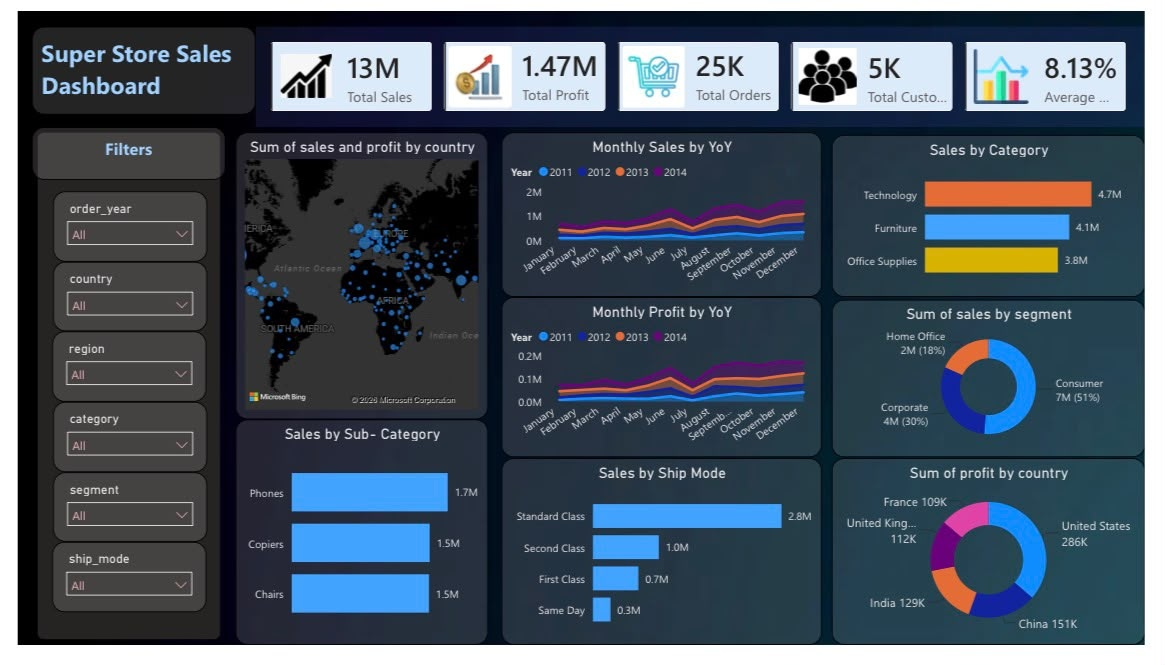

The dashboard page shown, as its layout file describes it:
{"tool":"powerbi","page":{"name":"Page 1","canvas":[1280,720],"ordinal":0},"visuals":[{"type":"clusteredBarChart","title":"Sales by Category","fields":{"Y":["Sum(superstore_Data.sales)"],"Category":["superstore_Data.category"]},"box":[924.1,141.2,355.9,183.4],"z":0},{"type":"clusteredBarChart","title":"Sales by Sub- Category","fields":{"Y":["Sum(superstore_Data.sales)"],"Category":["superstore_Data.sub_category"]},"box":[247.3,464.5,287.1,255.8],"z":1000},{"type":"clusteredBarChart","title":"Sales by Ship Mode","fields":{"Y":["Sum(superstore_Data.sales)"],"Category":["superstore_Data.ship_mode"]},"box":[548.9,507.9,364.3,212.3],"z":2000},{"type":"stackedAreaChart","title":"Monthly Sales by YoY","fields":{"Y":["Sum(superstore_Data.sales)"],"Category":["superstore_Data.order_date.Variation.Date Hierarchy.Month","superstore_Data.order_date.Variation.Date Hierarchy.Day"],"Series":["superstore_Data.order_date.Variation.Date Hierarchy.Year"]},"box":[548.9,137.5,364.3,187],"z":3000},{"type":"stackedAreaChart","title":"Monthly Profit by YoY","fields":{"Category":["superstore_Data.order_date.Variation.Date Hierarchy.Month","superstore_Data.order_date.Variation.Date Hierarchy.Day"],"Series":["superstore_Data.order_date.Variation.Date Hierarchy.Year"],"Y":["Sum(superstore_Data.profit)"]},"box":[548.9,324.5,364.3,182.2],"z":4000},{"type":"map","title":"Sum of sales and profit by country","fields":{"Size":["Sum(superstore_Data.sales)"],"Category":["superstore_Data.country"]},"box":[247.3,137.5,287.1,326.9],"z":5000},{"type":"donutChart","fields":{"Category":["superstore_Data.segment"],"Y":["Sum(superstore_Data.sales)"]},"box":[924.1,328.2,355.9,178.6],"z":6000},{"type":"textbox","box":[15.7,18.1,254.6,100.1],"z":7000},{"type":"shape","box":[15.7,131.5,220.8,588.7],"z":8000},{"type":"slicer","fields":{"Values":["superstore_Data.order_year"]},"box":[39.8,205.1,174.9,79.6],"z":9000},{"type":"textbox","box":[15.7,131.5,220.8,60.3],"z":10000},{"type":"slicer","fields":{"Values":["superstore_Data.segment"]},"box":[39.8,523.6,174.9,79.6],"z":11000},{"type":"slicer","fields":{"Values":["superstore_Data.country"]},"box":[39.8,284.7,174.9,79.6],"z":12000},{"type":"slicer","fields":{"Values":["superstore_Data.region"]},"box":[38.6,364.3,174.9,79.6],"z":13000},{"type":"slicer","fields":{"Values":["superstore_Data.category"]},"box":[39.8,444,174.9,79.6],"z":14000},{"type":"slicer","fields":{"Values":["superstore_Data.ship_mode"]},"box":[38.6,603.2,174.9,79.6],"z":15000},{"type":"cardVisual","fields":{"Data":["superstore_Data.Total Sales","superstore_Data.Total Profit","superstore_Data.Total Orders","superstore_Data.Total Customers","superstore_Data.Average Discount"]},"box":[270.2,18.1,1009.8,113.4],"z":16000},{"type":"donutChart","fields":{"Y":["Sum(superstore_Data.profit)"],"Category":["superstore_Data.country"]},"box":[924,508,356,212],"z":16001}]}

Visuals, with their boxes in screenshot pixels (x1, y1, x2, y2), scaled from the page's 1280x720 canvas onto the 1165x665 screenshot:
"Sales by Category" clusteredBarChart: l=841, t=130, r=1164, b=300
"Sales by Sub- Category" clusteredBarChart: l=225, t=429, r=486, b=664
"Sales by Ship Mode" clusteredBarChart: l=500, t=469, r=831, b=664
"Monthly Sales by YoY" stackedAreaChart: l=500, t=127, r=831, b=300
"Monthly Profit by YoY" stackedAreaChart: l=500, t=300, r=831, b=468
"Sum of sales and profit by country" map: l=225, t=127, r=486, b=429
donutChart - superstore_Data.segment x Sum(superstore_Data.sales): l=841, t=303, r=1164, b=468
textbox: l=14, t=17, r=246, b=109
shape: l=14, t=121, r=215, b=664
slicer - superstore_Data.order_year: l=36, t=189, r=195, b=263
textbox: l=14, t=121, r=215, b=177
slicer - superstore_Data.segment: l=36, t=484, r=195, b=557
slicer - superstore_Data.country: l=36, t=263, r=195, b=336
slicer - superstore_Data.region: l=35, t=336, r=194, b=410
slicer - superstore_Data.category: l=36, t=410, r=195, b=484
slicer - superstore_Data.ship_mode: l=35, t=557, r=194, b=631
cardVisual - superstore_Data.Total Sales x superstore_Data.Total Profit: l=246, t=17, r=1164, b=121
donutChart - Sum(superstore_Data.profit) x superstore_Data.country: l=841, t=469, r=1164, b=664
